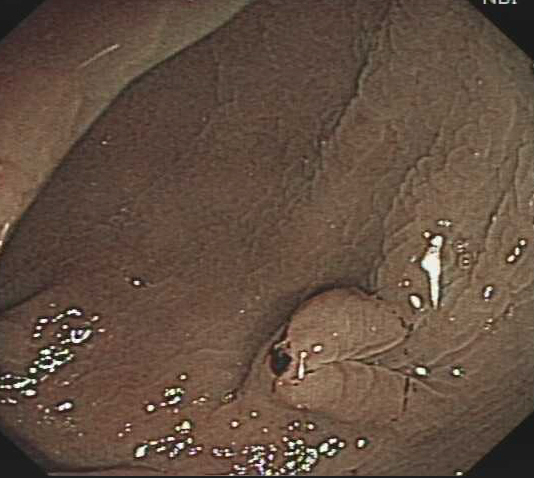others: (269, 284, 426, 428)
